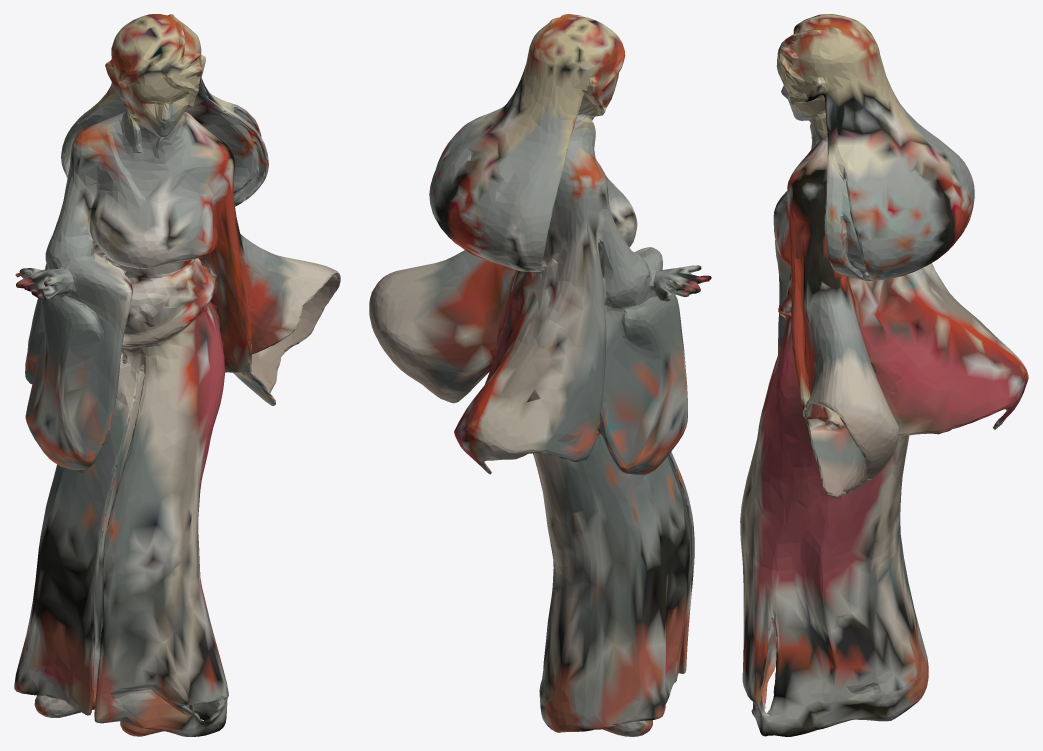
Rendered from blueSlime.glb.
3 renders of one model, left to right at view 1: azimuth 30°, elevation 25°; view 2: azimuth 150°, elevation 25°; view 3: azimuth 270°, elevation 25°, orthographic. The views are drawn at different scales.
Visible parts, largest first — view 1: world; view 2: world; view 3: world.
Part boxes in pixels (<box>): world: <box>14,14,340,736</box>; world: <box>369,14,711,736</box>; world: <box>740,14,1028,736</box>.
Bounding box in the file's own units: 0.4963 × 1 × 0.3714.
